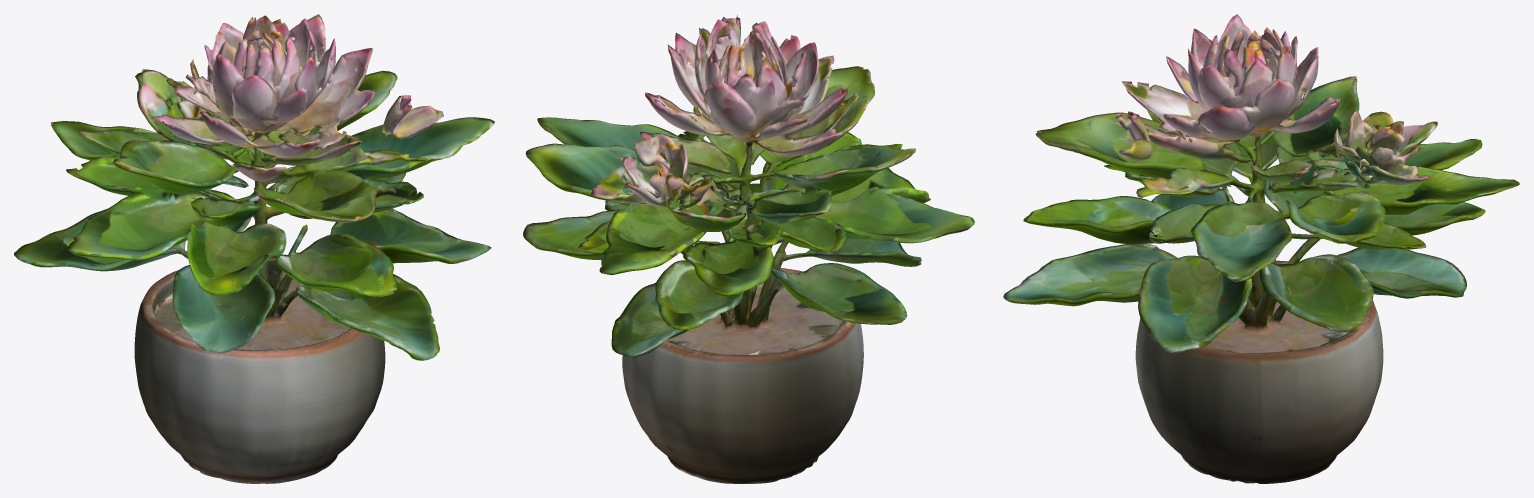
The model's file is lotus.glb.
3 views of the same model, side by side, from view 1: azimuth 30°, elevation 25°; view 2: azimuth 150°, elevation 25°; view 3: azimuth 270°, elevation 25° (orthographic). The views are drawn at different scales.
Size of the model in its own units: 1.93 by 1.81 by 2.
Materials: 1 (1 with a texture image).
